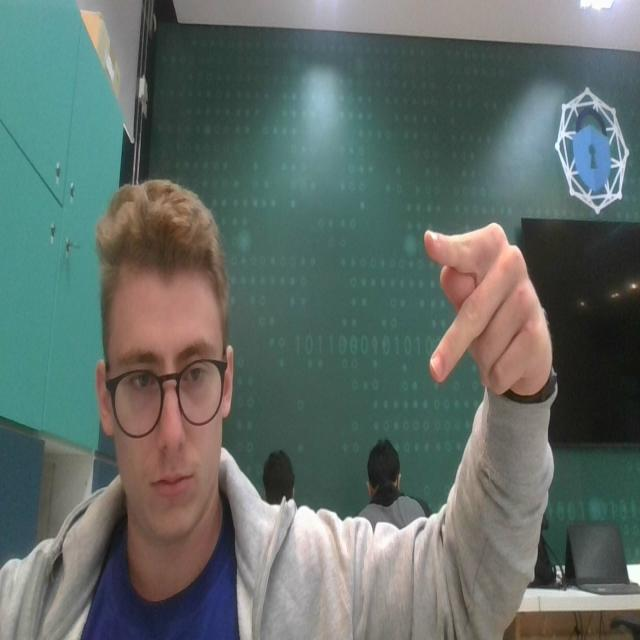P: (422, 212, 548, 406)
